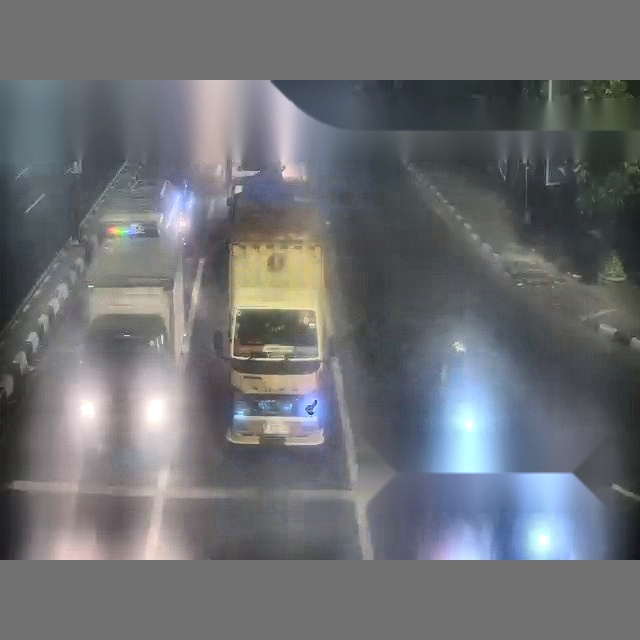Truk: (224, 184, 335, 447)
